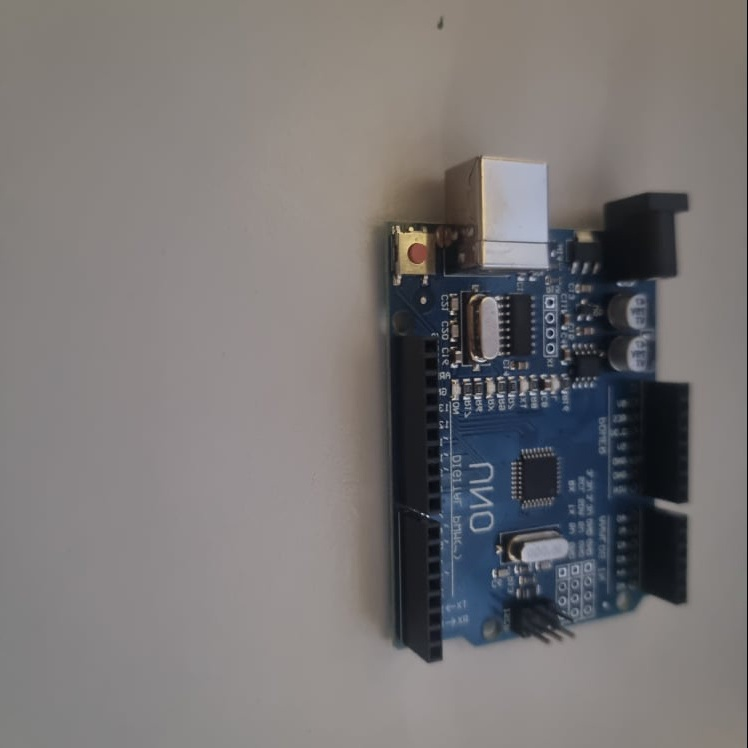UNO R3: (391, 153, 689, 664)
